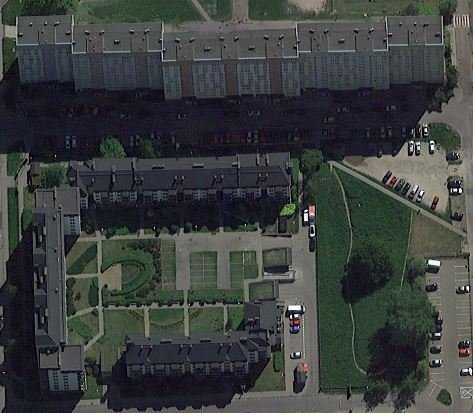block of flats: (10, 5, 451, 106), (116, 297, 292, 394), (24, 184, 89, 401), (65, 149, 305, 206)
